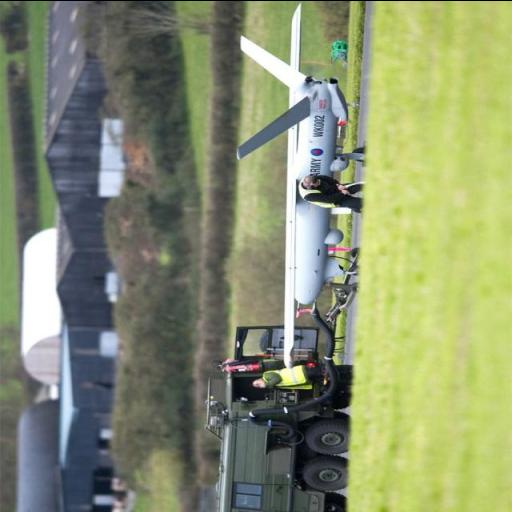uav: (236, 4, 351, 366)
